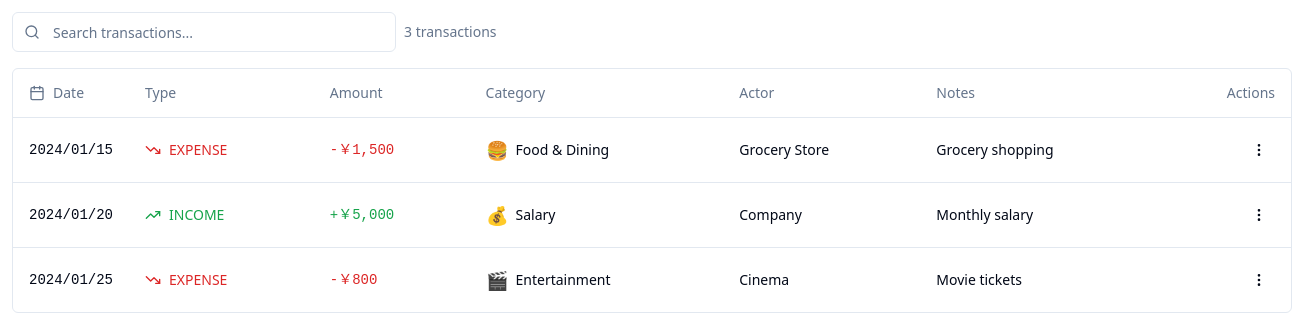
TransactionsTable › Search functionality › should filter transactions by category name
Type "entertainment" into the field with placeholder "Search transactions..." at (204, 32), box [12,12,396,52]
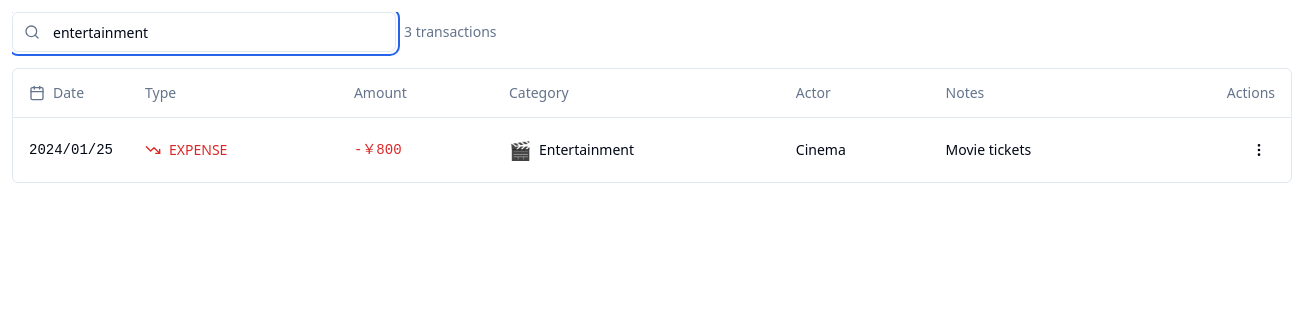
Expected: the text "Movie tickets" is shown, [930,117,1145,182]
Now the text "Grocery shopping" is gone
Now the text "Monthly salary" is gone
